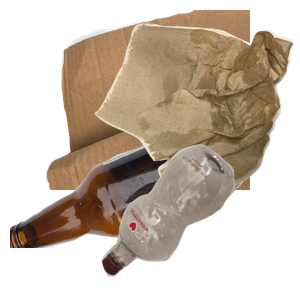cardboard: (43, 10, 283, 190)
glass: (10, 120, 247, 300)
plastic: (99, 142, 300, 300)
trash: (92, 21, 300, 201)
